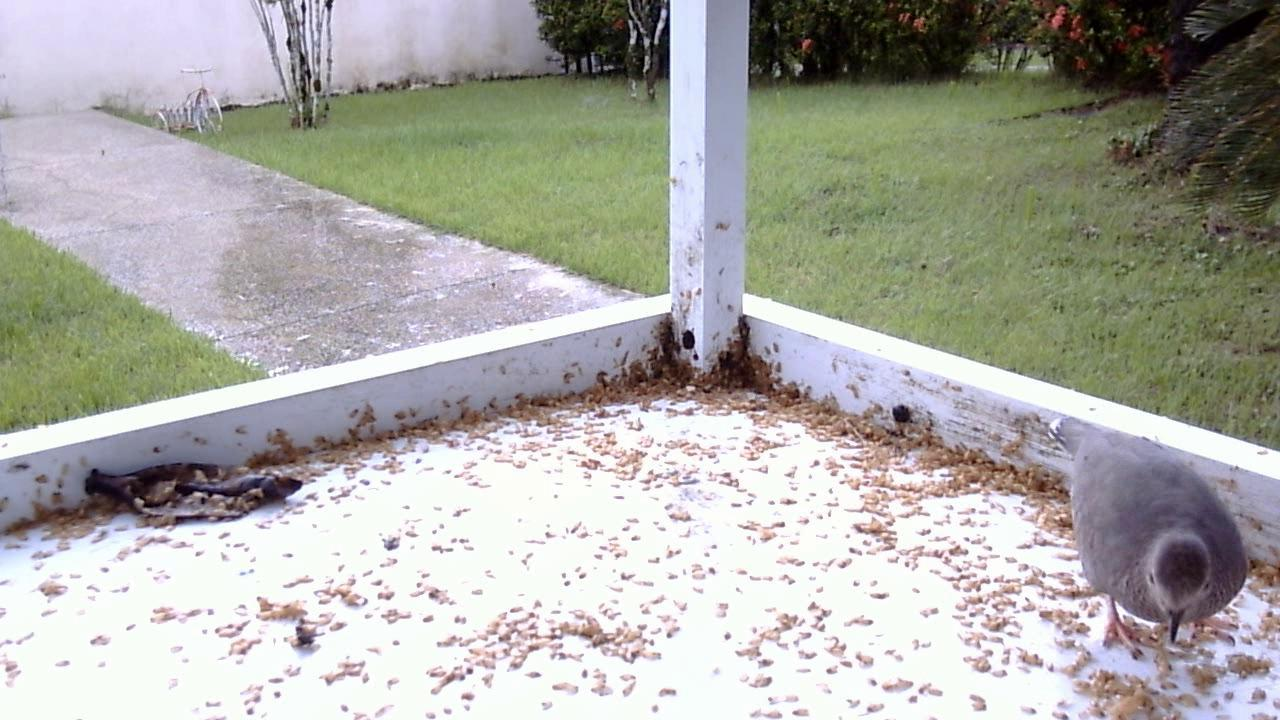rolinha: (1034, 408, 1246, 658)
